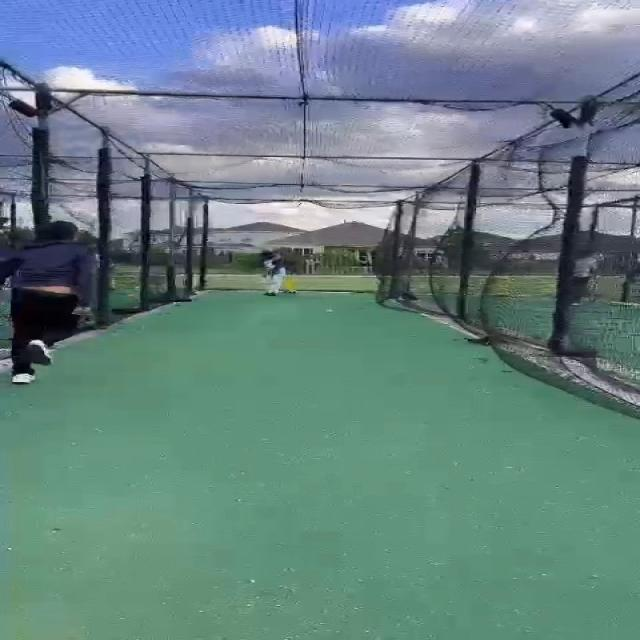batsman: (257, 250, 287, 298)
